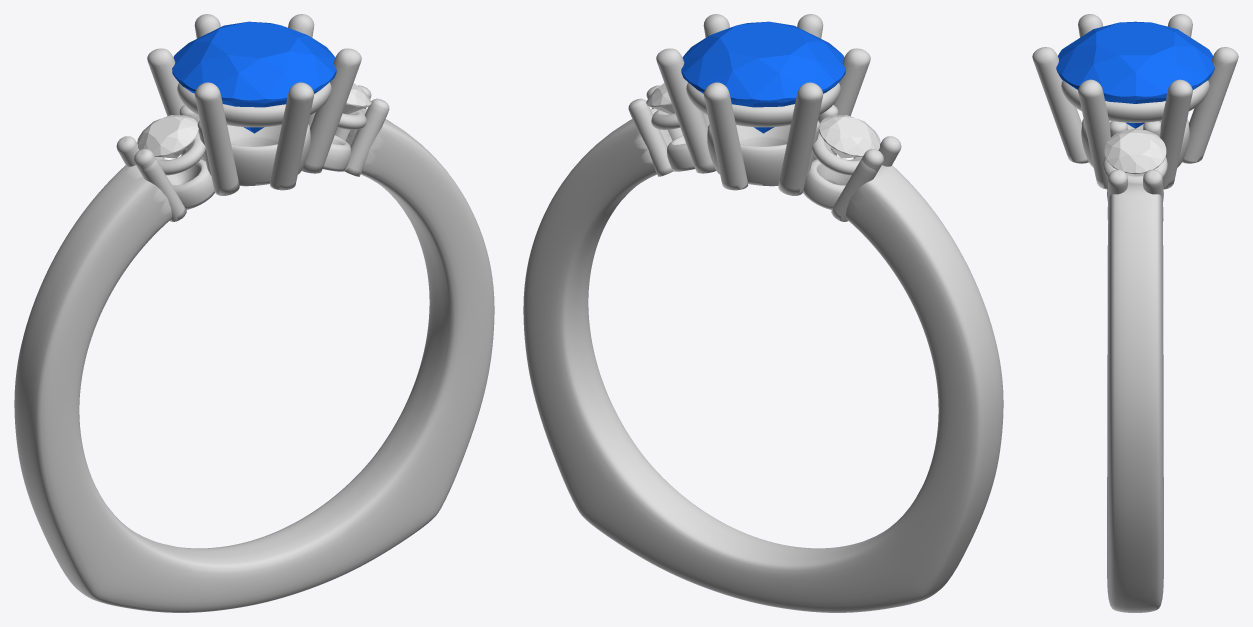
File: bluesapphire-round-platinum-6prong-europeanshank-2stone.glb
The picture shows the model from 3 angles, left to right: view 1: azimuth 30°, elevation 25°; view 2: azimuth 150°, elevation 25°; view 3: azimuth 270°, elevation 25°; orthographic projection. The views are drawn at different scales.
Parts seen in each view (by area): view 1: metal, stone, side.001; view 2: metal, stone, side.001; view 3: metal, stone, side.
Boxes of the visible parts, box(x1,y1,x2,y2) form: metal: box(14, 14, 494, 612); stone: box(172, 21, 336, 133); side.001: box(137, 115, 198, 158); metal: box(523, 14, 1003, 612); stone: box(681, 21, 845, 133); side.001: box(819, 115, 880, 158); metal: box(1032, 14, 1238, 612); stone: box(1056, 21, 1214, 128); side: box(1104, 129, 1166, 174).
Size of the model in its own units: 20.71 by 23.81 by 8.33.
